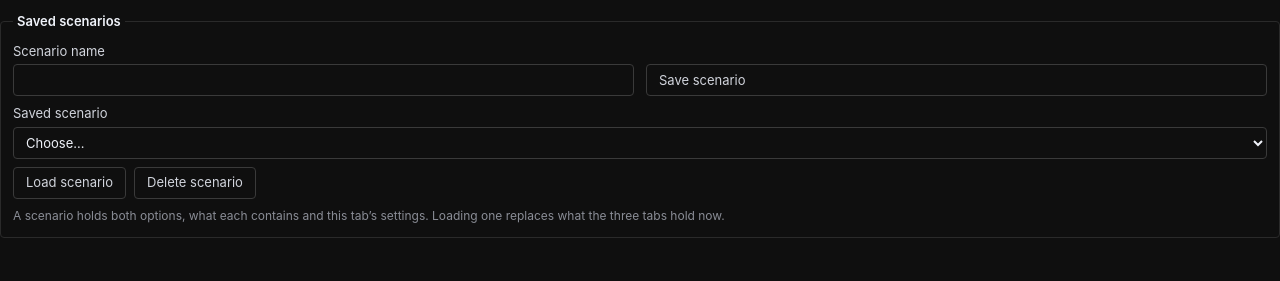
Test: PlannerScenarios › loads a scenario into both tabs
Select "Haifa" in the dropdown labelled "Saved scenario". click: (640, 143)
box: [13, 127, 1267, 159]
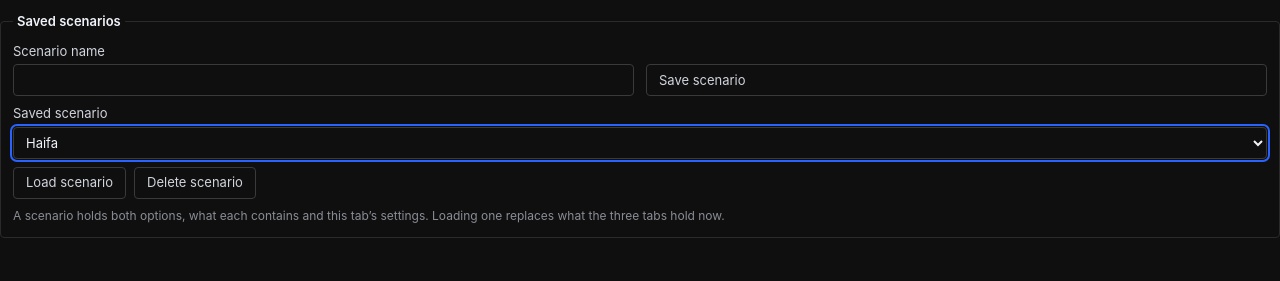
Click the button "Load scenario". click: (70, 183)
box: [13, 167, 126, 199]
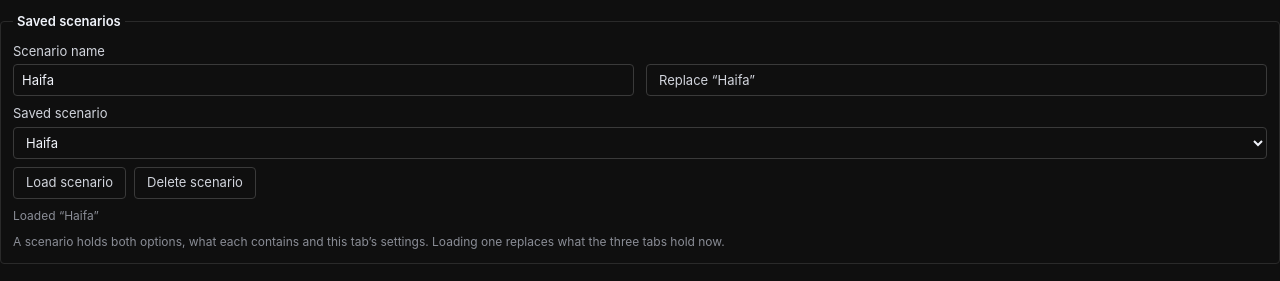
Now the text "Loaded “Haifa”" is shown, box [13, 208, 99, 223]
Now the field labelled "Scenario name" holds "Haifa", box [13, 64, 634, 96]
